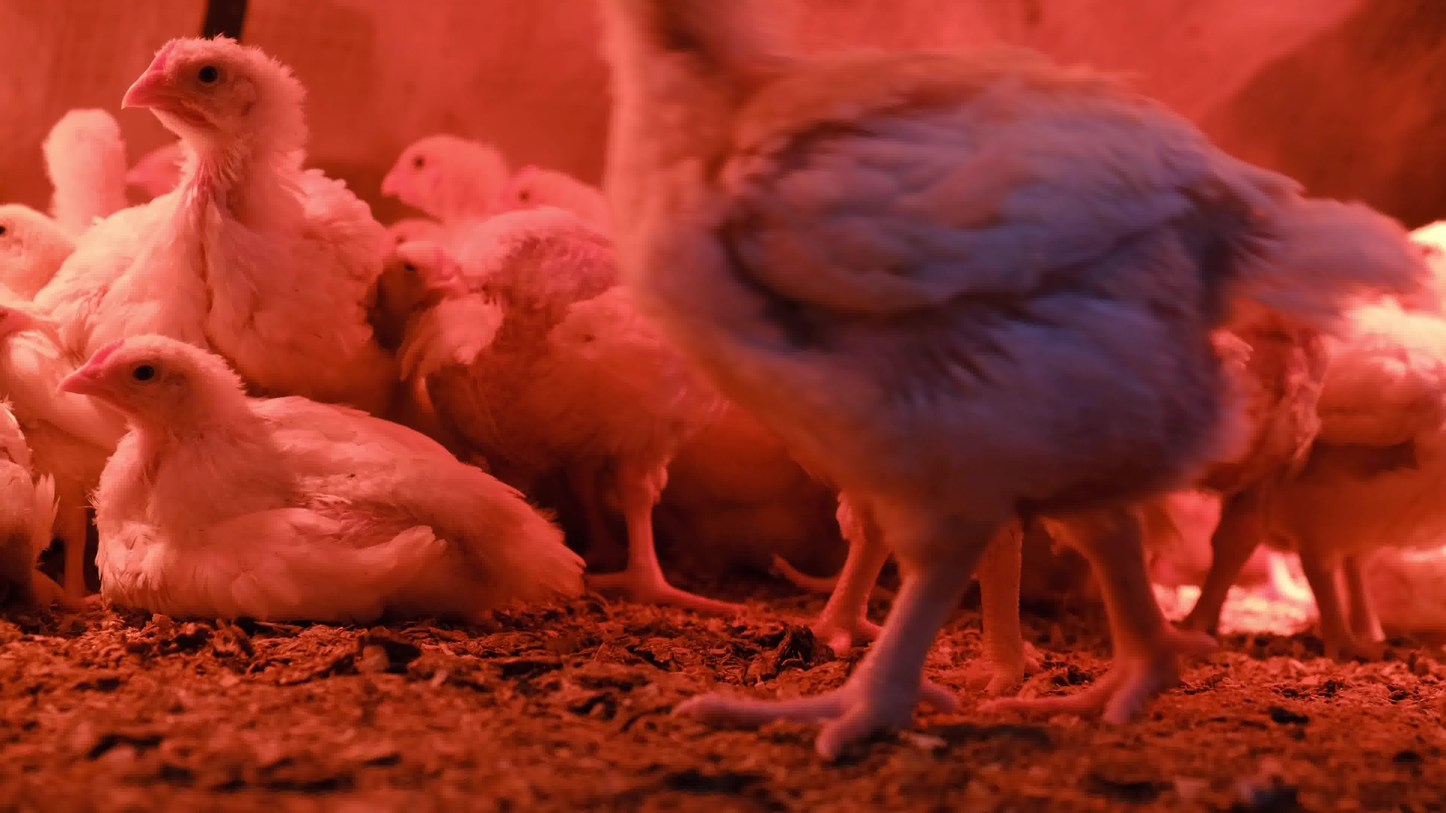AbNormal: (73, 322, 625, 621), (0, 277, 92, 621)
Normal: (578, 4, 1333, 766), (416, 190, 768, 638), (107, 26, 420, 358), (1248, 151, 1446, 661), (360, 235, 493, 373), (346, 120, 497, 228), (126, 115, 237, 260), (41, 100, 162, 233), (444, 156, 650, 224), (0, 175, 66, 316)
